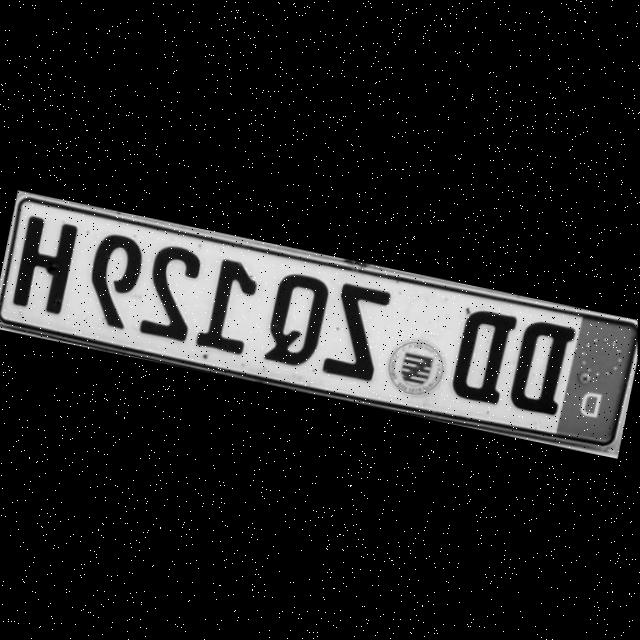license-plates: (0, 196, 638, 449)
